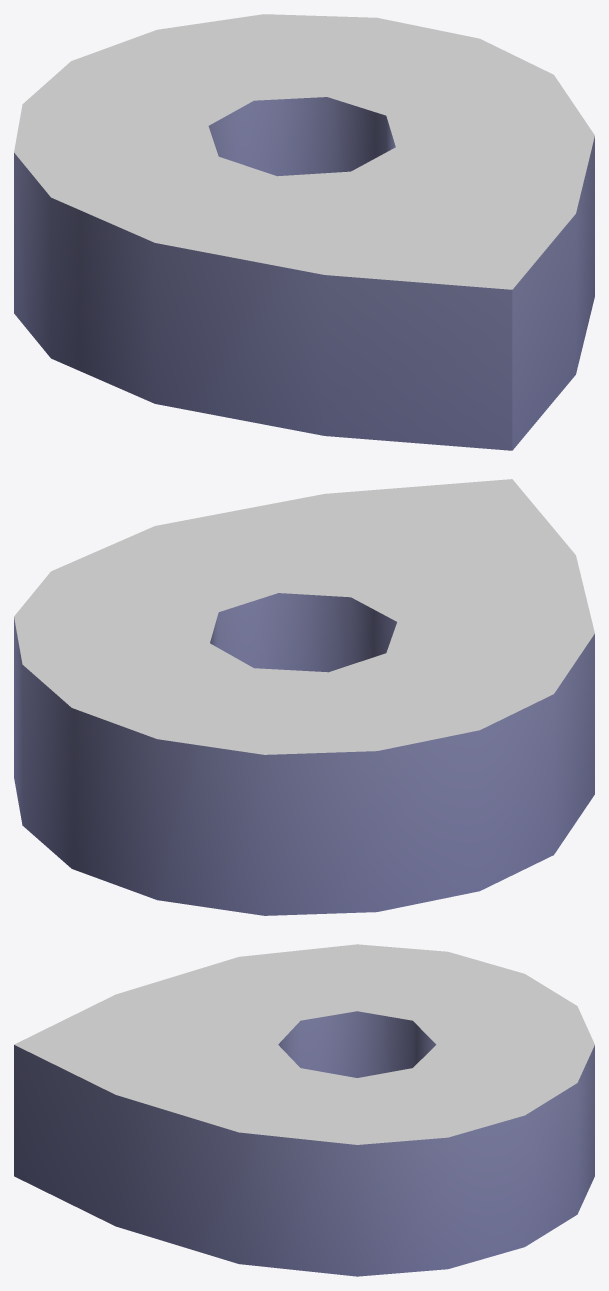
Rendered from shape-pin.glb.
3 renders of one model, top to bottom at view 1: azimuth 30°, elevation 25°; view 2: azimuth 150°, elevation 25°; view 3: azimuth 270°, elevation 25°, orthographic. The views are drawn at different scales.
Visible parts, largest first — view 1: shape-pin; view 2: shape-pin; view 3: shape-pin.
Boxes of the visible parts, x1,y1,x2,y2 form: shape-pin: [14, 14, 594, 450]; shape-pin: [14, 479, 594, 915]; shape-pin: [14, 944, 594, 1276].
Size of the model in its own units: 0.2043 by 0.0625 by 0.25.
